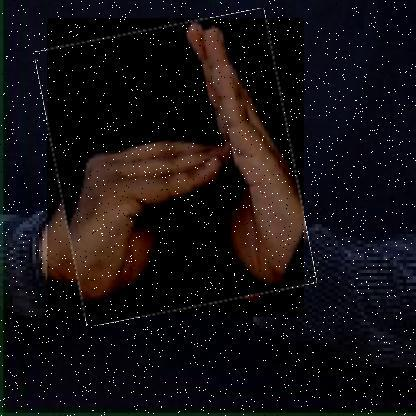Z: (46, 18, 304, 318)
